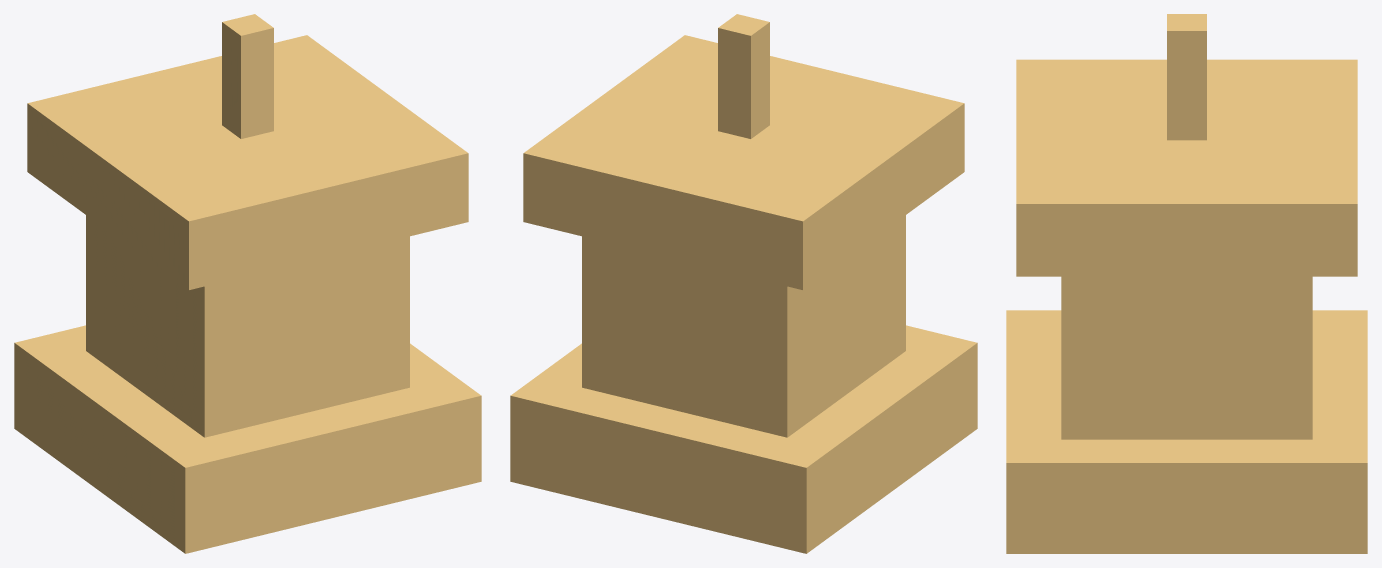
Rendered from outpost.gltf.
3 renders of one model, left to right at view 1: azimuth 30°, elevation 25°; view 2: azimuth 150°, elevation 25°; view 3: azimuth 270°, elevation 25°, orthographic. The views are drawn at different scales.
Parts seen in each view (by area): view 1: outpost; view 2: outpost; view 3: outpost.
Boxes of the visible parts, box(x1,y1,x2,y2) form: outpost: box(14, 14, 481, 553); outpost: box(510, 14, 977, 553); outpost: box(1006, 14, 1367, 553).
Size of the model in its own units: 1.8 by 2.5 by 1.8.
